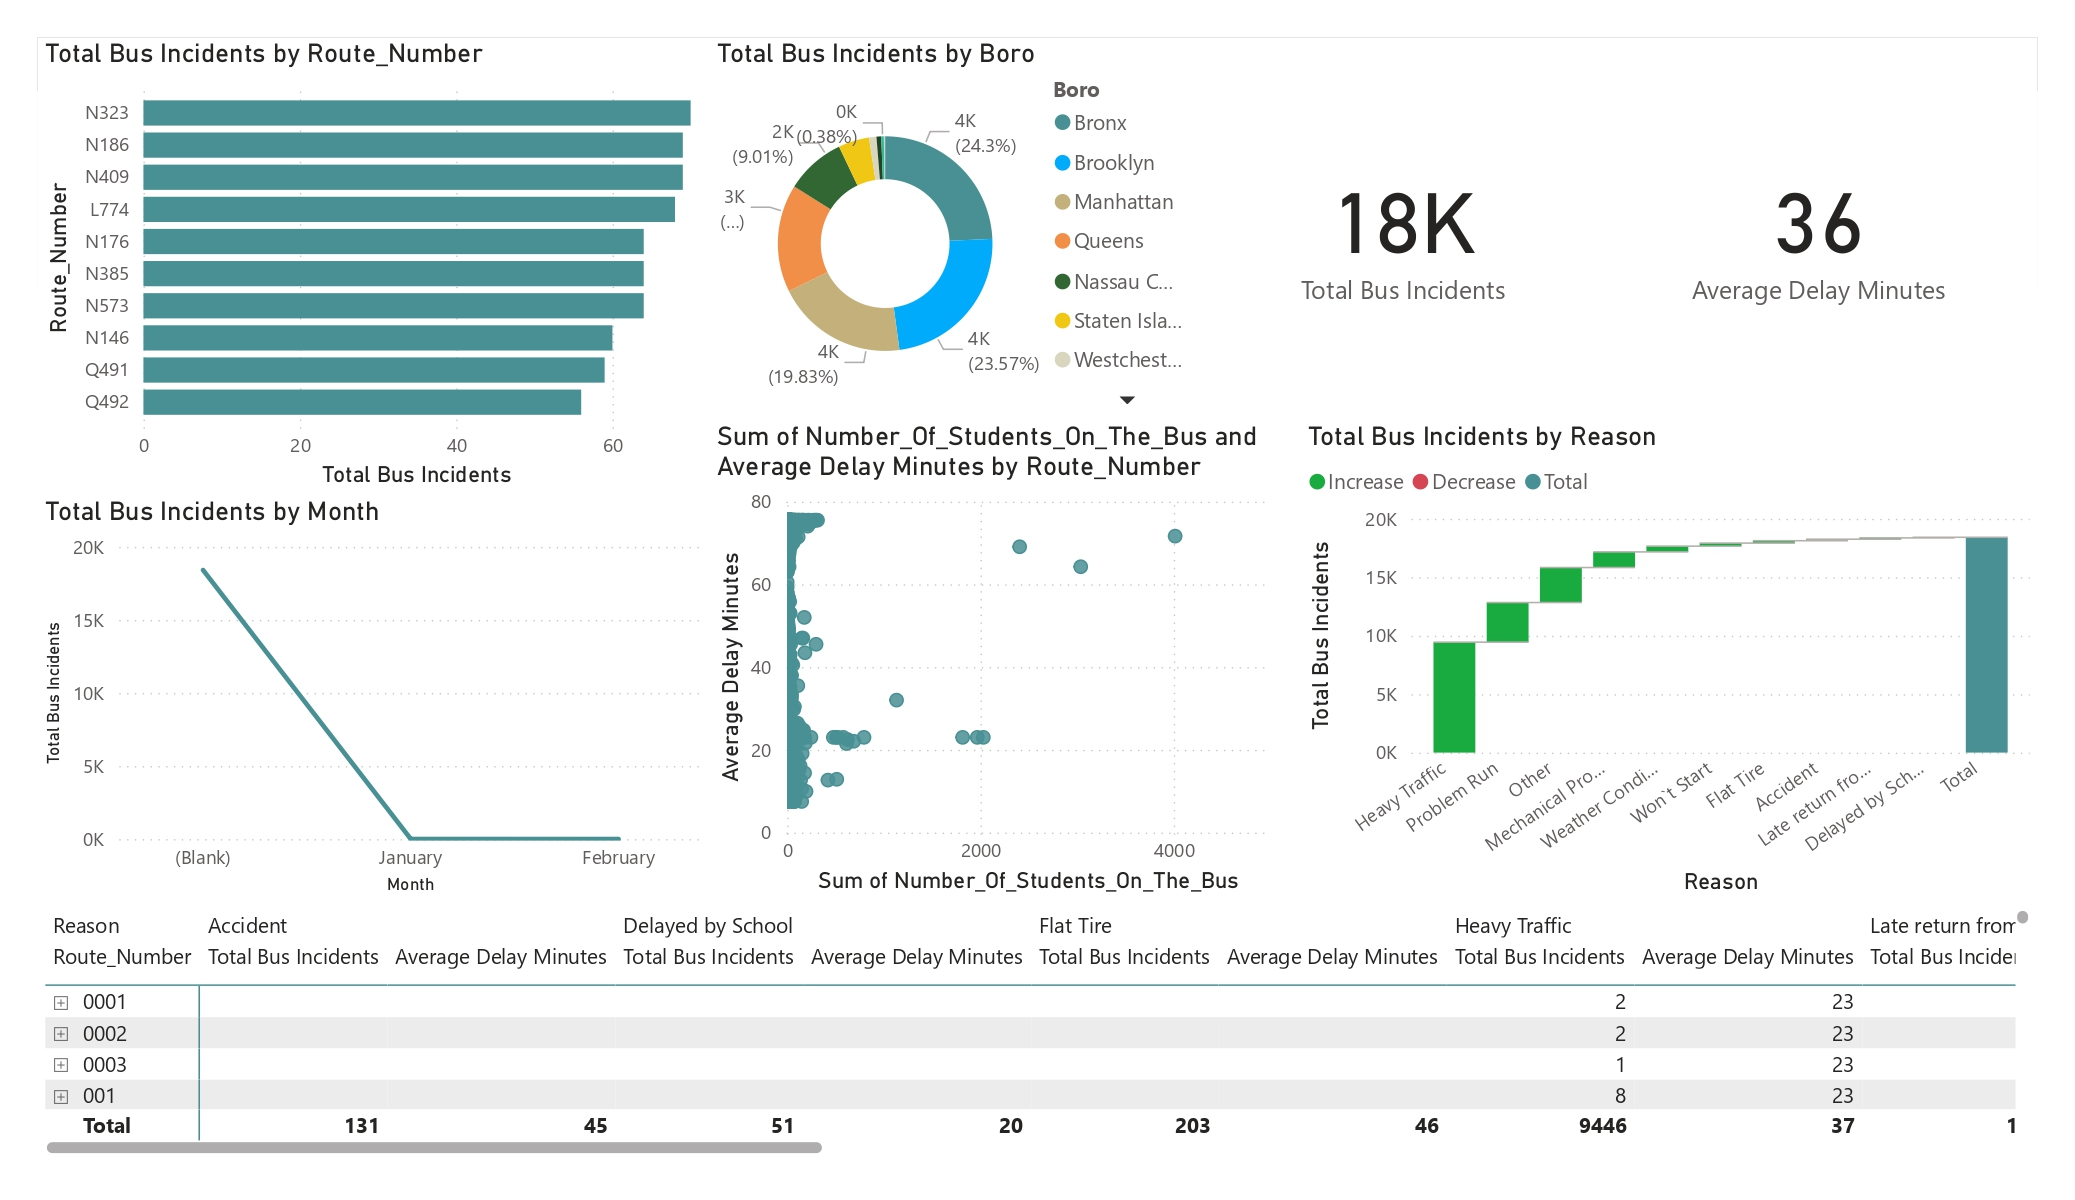

Layout of this report page (visuals, bound fields, positions):
{"tool":"powerbi","page":{"name":"Page 2","canvas":[1280,720],"ordinal":1},"visuals":[{"type":"card","fields":{"Values":["Bus_Breakdown_and_Delays_20250903.Total Bus Incidents"]},"box":[748.3,0,251.7,245],"z":0},{"type":"card","fields":{"Values":["Bus_Breakdown_and_Delays_20250903.Average Delay Minutes"]},"box":[1000,0,280,245],"z":1},{"type":"barChart","fields":{"Category":["Bus_Breakdown_and_Delays_20250903.Route_Number"],"Y":["Bus_Breakdown_and_Delays_20250903.Total Bus Incidents"]},"box":[0,0,430,293.3],"z":2},{"type":"donutChart","fields":{"Category":["Bus_Breakdown_and_Delays_20250903.Boro"],"Y":["Bus_Breakdown_and_Delays_20250903.Total Bus Incidents"]},"box":[430,0,318.3,245],"z":3},{"type":"lineChart","fields":{"Y":["Bus_Breakdown_and_Delays_20250903.Total Bus Incidents"],"Category":["Date.Date.Variation.Date Hierarchy.Month"]},"box":[0,293.3,430,260],"z":4},{"type":"pivotTable","fields":{"Columns":["Bus_Breakdown_and_Delays_20250903.Reason"],"Rows":["Bus_Breakdown_and_Delays_20250903.Route_Number","Bus_Breakdown_and_Delays_20250903.Boro"],"Values":["Bus_Breakdown_and_Delays_20250903.Total Bus Incidents","Bus_Breakdown_and_Delays_20250903.Average Delay Minutes"]},"box":[0,553.3,1280,166.7],"z":5},{"type":"scatterChart","fields":{"X":["Sum(Bus_Breakdown_and_Delays_20250903.Number_Of_Students_On_The_Bus)"],"Category":["Bus_Breakdown_and_Delays_20250903.Route_Number"],"Y":["Bus_Breakdown_and_Delays_20250903.Average Delay Minutes"]},"box":[430,245,376.7,308.3],"z":6},{"type":"waterfallChart","fields":{"Category":["Bus_Breakdown_and_Delays_20250903.Reason"],"Y":["Bus_Breakdown_and_Delays_20250903.Total Bus Incidents"]},"box":[808.3,245,471.7,308.3],"z":7}]}

Visuals, with their boxes in screenshot pixels (x1, y1, x2, y2):
card - Bus_Breakdown_and_Delays_20250903.Total Bus Incidents: [1207,38,1600,420]
card - Bus_Breakdown_and_Delays_20250903.Average Delay Minutes: [1600,38,2038,420]
barChart - Bus_Breakdown_and_Delays_20250903.Route_Number x Bus_Breakdown_and_Delays_20250903.Total Bus Incidents: [38,38,709,496]
donutChart - Bus_Breakdown_and_Delays_20250903.Boro x Bus_Breakdown_and_Delays_20250903.Total Bus Incidents: [709,38,1207,420]
lineChart - Bus_Breakdown_and_Delays_20250903.Total Bus Incidents x Date.Date.Variation.Date Hierarchy.Month: [38,496,709,902]
pivotTable - Bus_Breakdown_and_Delays_20250903.Reason x Bus_Breakdown_and_Delays_20250903.Route_Number: [38,902,2038,1162]
scatterChart - Sum(Bus_Breakdown_and_Delays_20250903.Number_Of_Students_On_The_Bus) x Bus_Breakdown_and_Delays_20250903.Route_Number: [709,420,1298,902]
waterfallChart - Bus_Breakdown_and_Delays_20250903.Reason x Bus_Breakdown_and_Delays_20250903.Total Bus Incidents: [1300,420,2038,902]
